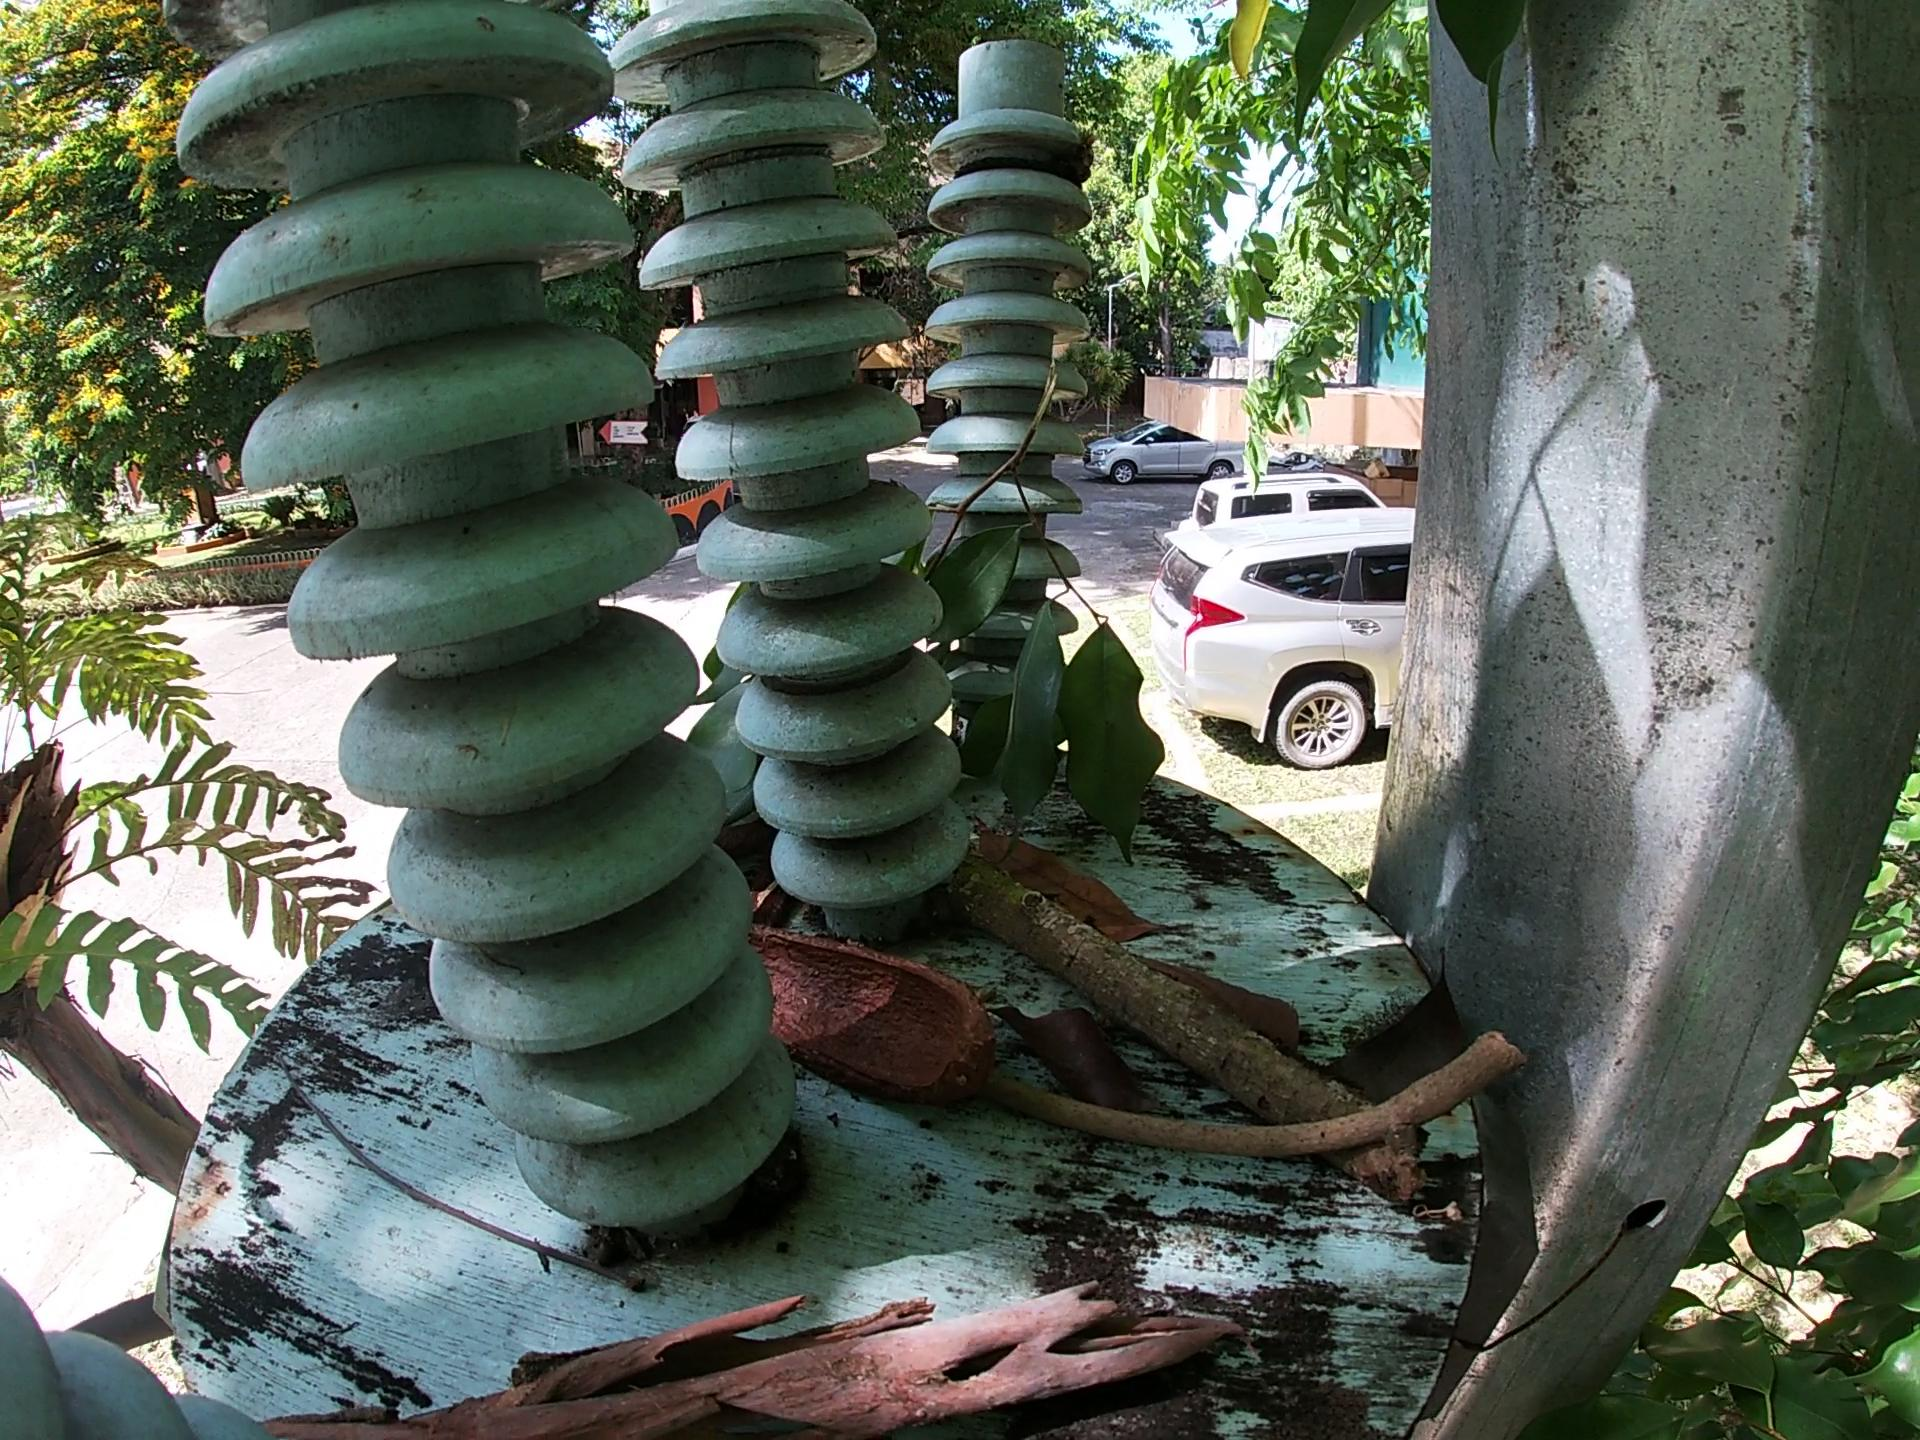branch with leaves: (937, 369, 1194, 850)
leaf: (968, 799, 1182, 948), (679, 569, 785, 864), (1342, 945, 1480, 1106), (983, 980, 1143, 1113), (1154, 945, 1332, 1041)
mahogany fruit: (698, 898, 998, 1100)
tree branch: (197, 1265, 1276, 1438), (977, 871, 1439, 1195), (269, 1045, 664, 1321), (993, 1016, 1547, 1151)
